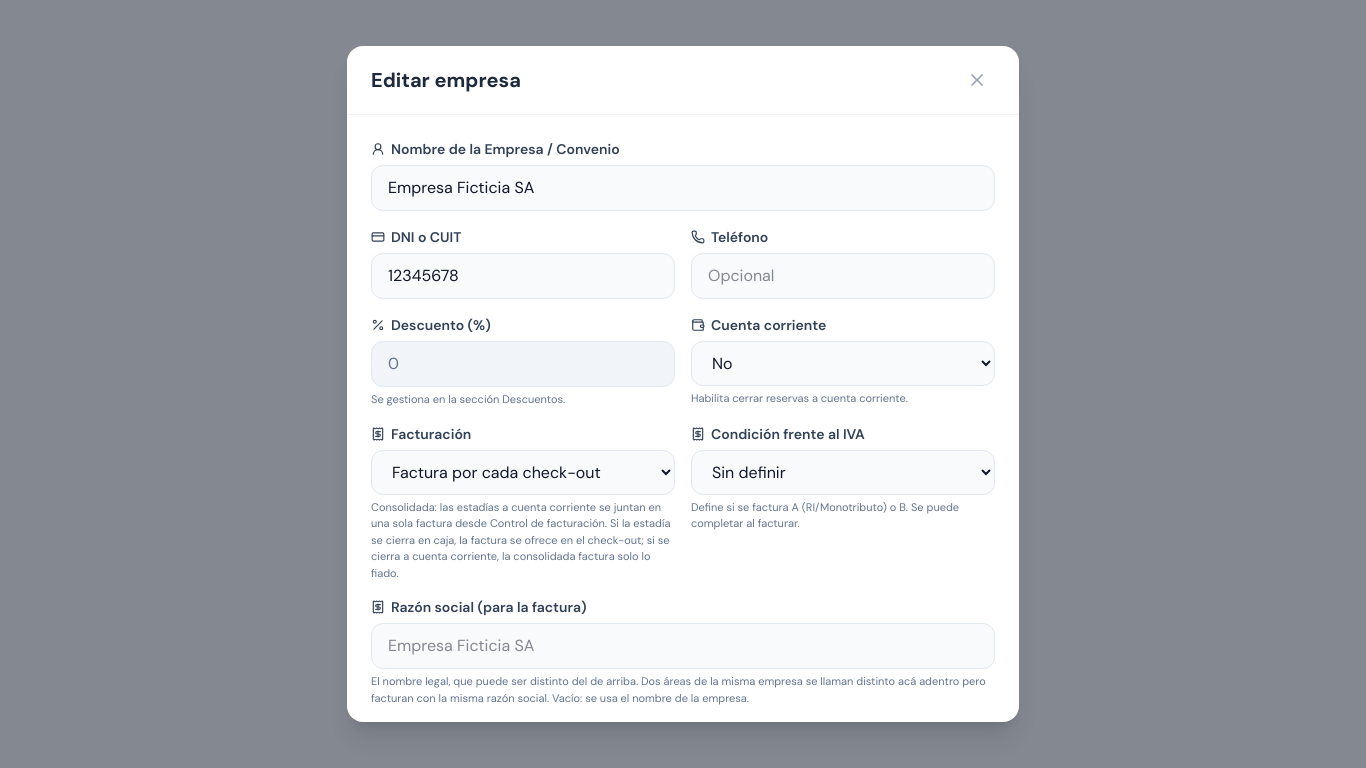
it: AssociatedClientModal: la consolidada de una empresa pide CUIT › volver a No saca el aviso del CUIT junto con el cambio automático
This screenshot has width=1366, height=768.
Select "Sí — habilitada a fiar" in the dropdown labelled "Cuenta corriente" at (843, 364), box [691,341,995,386]
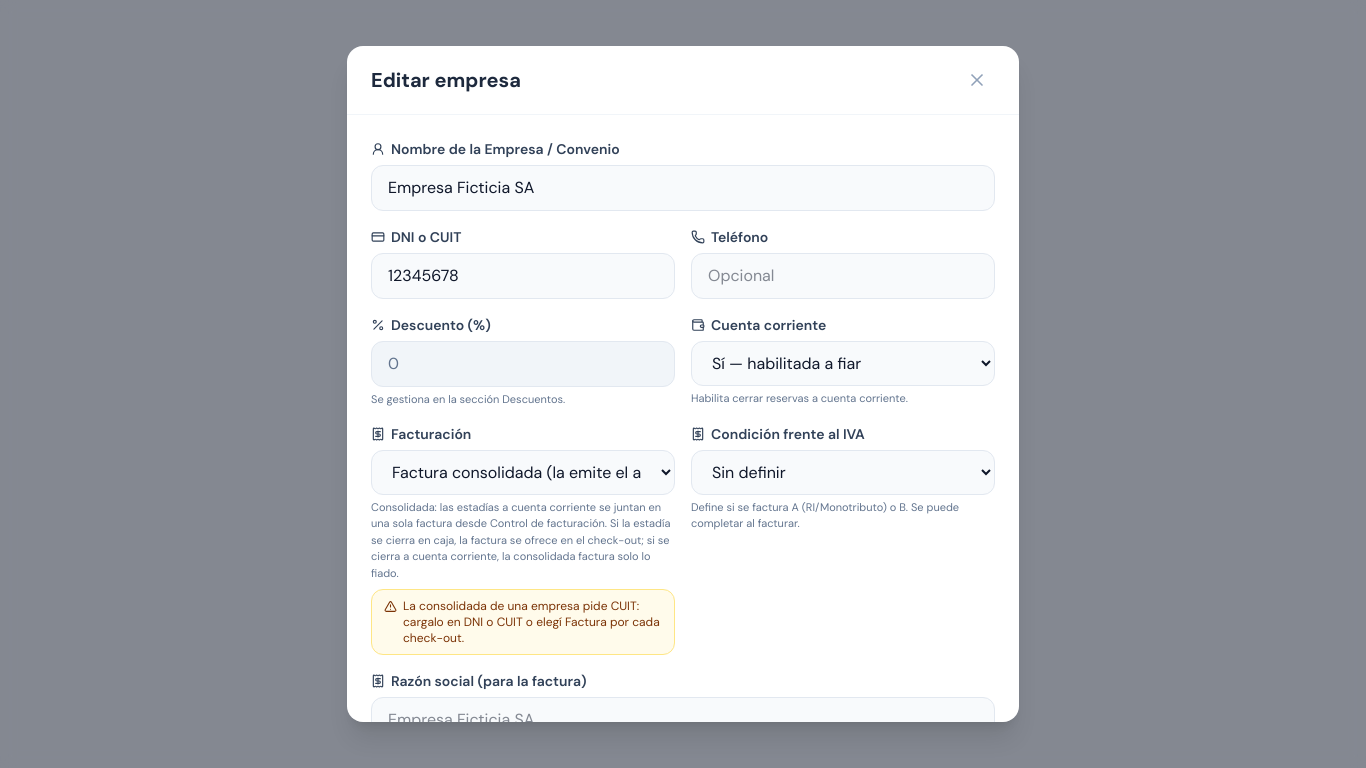
Select "No" in the dropdown labelled "Cuenta corriente" at (843, 364), box [691,341,995,386]
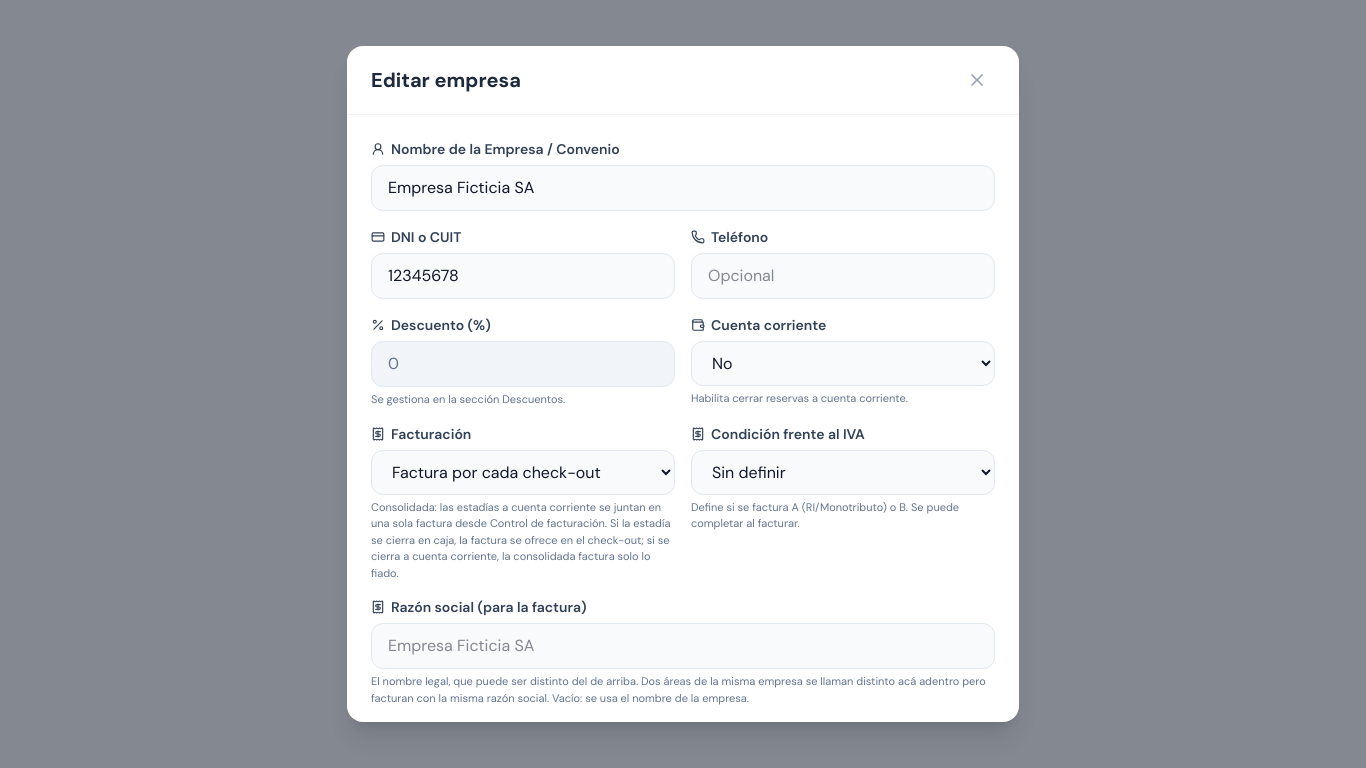
Expected: the dropdown labelled "Facturación" shows "Factura por cada check-out", [371,450,675,495]
Expected: the text "La consolidada de una empresa pide CUIT" is gone
